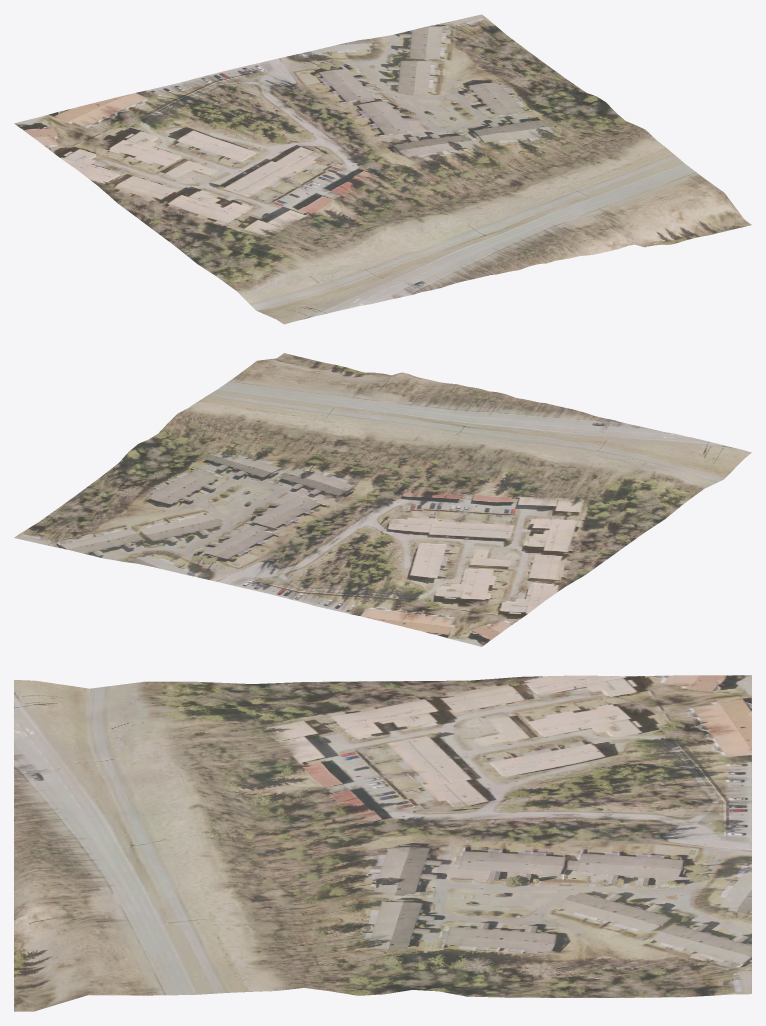
The model's file is CM_Terrain_24492711_6814469.fbx.
The picture shows the model from 3 angles, top to bottom: view 1: azimuth 30°, elevation 25°; view 2: azimuth 150°, elevation 25°; view 3: azimuth 270°, elevation 25°; orthographic projection. The views are drawn at different scales.
Parts seen in each view (by area): view 1: CM_Terrain_24492711_6814469_LOD0; view 2: CM_Terrain_24492711_6814469_LOD0; view 3: CM_Terrain_24492711_6814469_LOD0.
Boxes of the visible parts, x1=… form: CM_Terrain_24492711_6814469_LOD0: x1=14, y1=14, x2=751, y2=324; CM_Terrain_24492711_6814469_LOD0: x1=14, y1=353, x2=751, y2=646; CM_Terrain_24492711_6814469_LOD0: x1=14, y1=675, x2=751, y2=1011.
Size of what is drawn, in the model's own units: 205 by 9.68 by 205.
